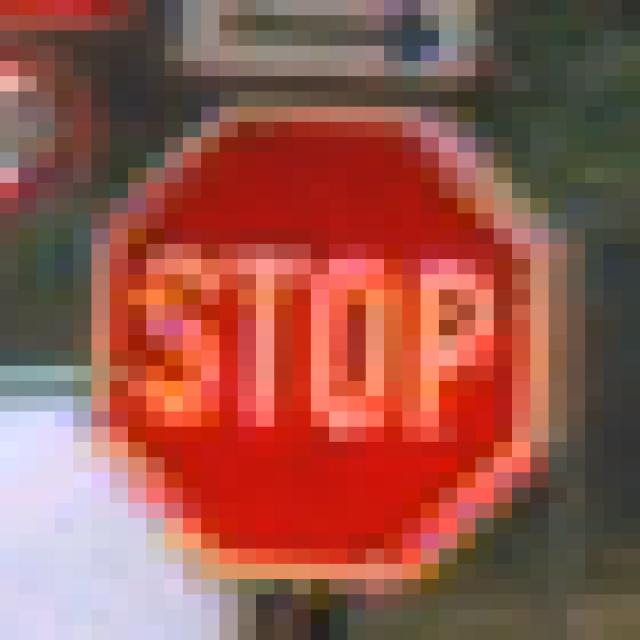STOP: (93, 92, 550, 565)
